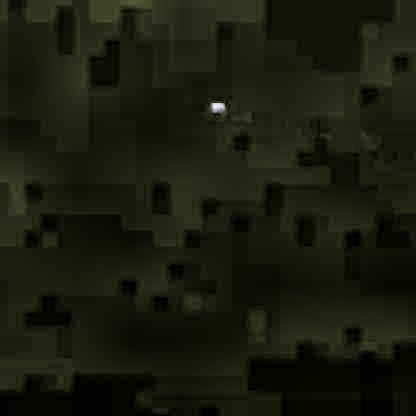golfball: (208, 99, 224, 113)
